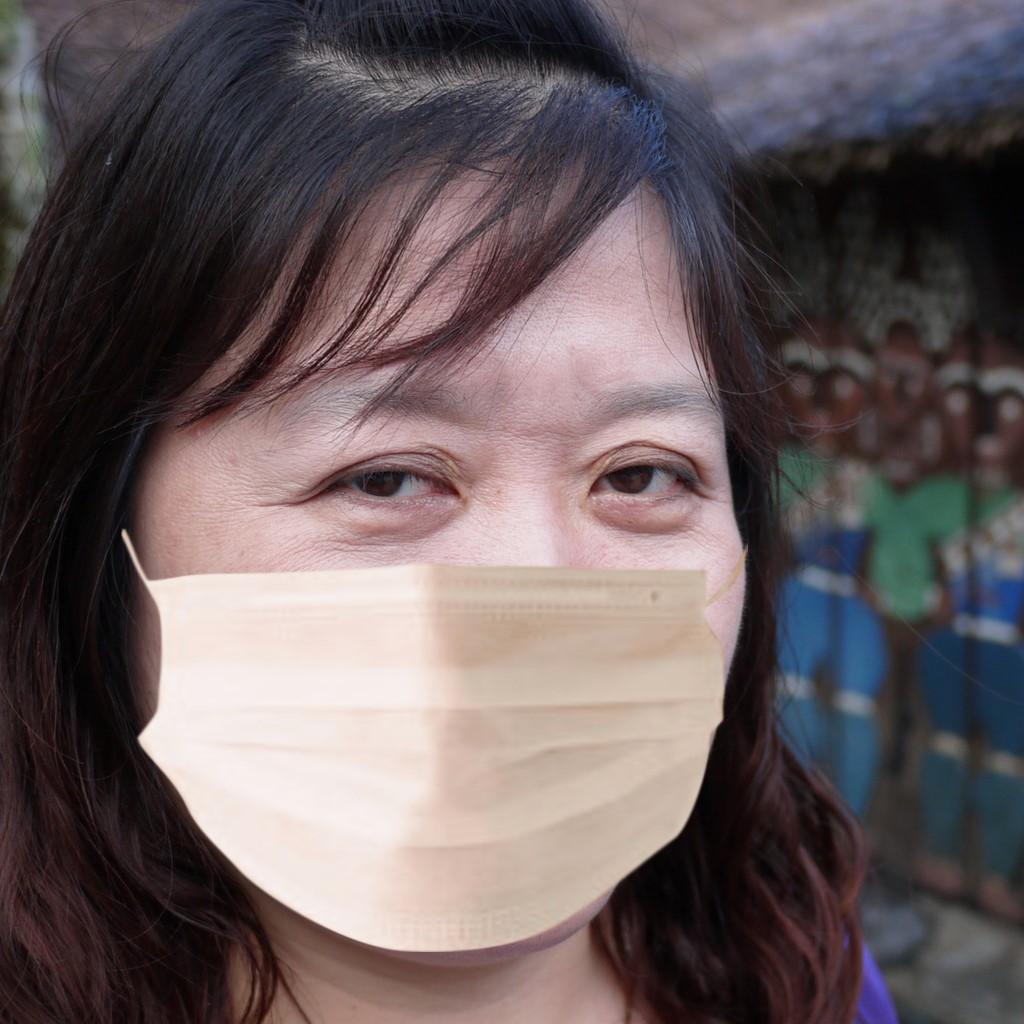con_mascara: (102, 154, 753, 941)
